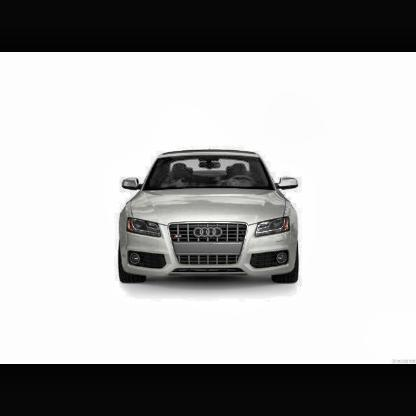Audi S5 Coupe 2012: (118, 152, 300, 288)
